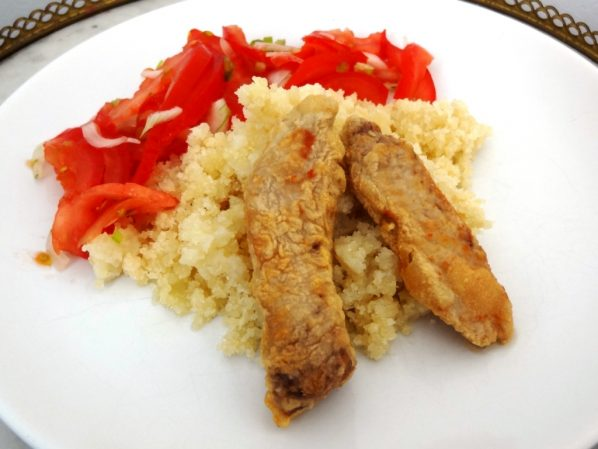poulet: (242, 85, 516, 428)
tomate: (47, 24, 237, 277), (177, 291, 227, 364)
